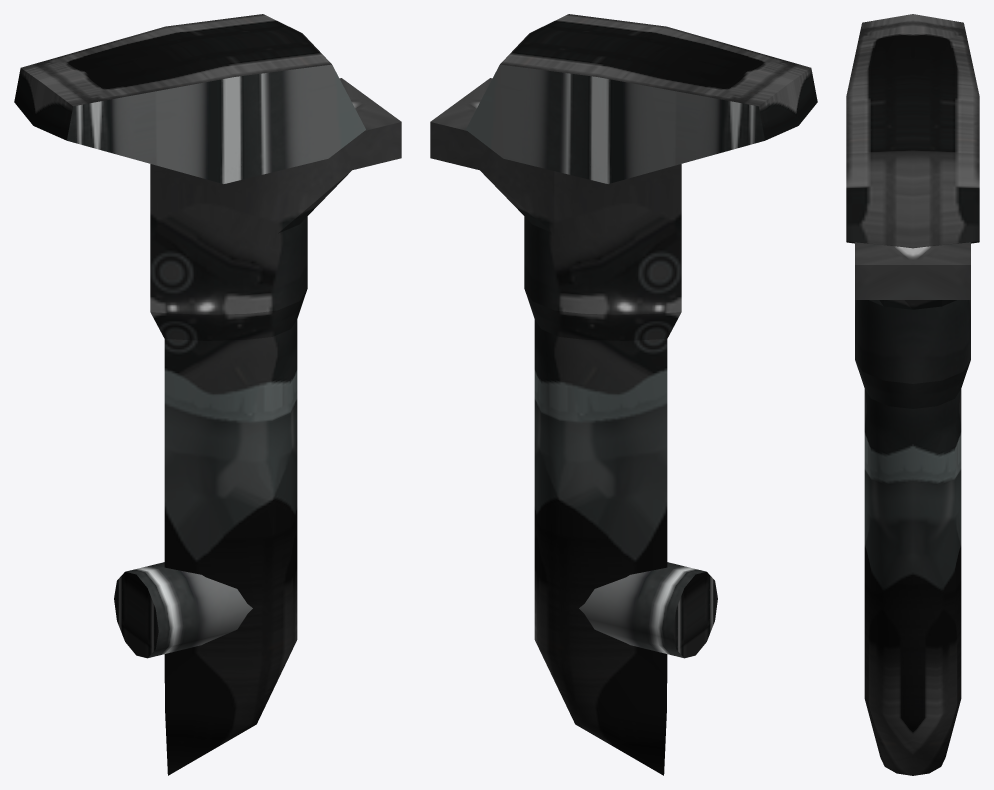
The model's file is engine.glb.
3 renders of one model, left to right at view 1: azimuth 30°, elevation 25°; view 2: azimuth 150°, elevation 25°; view 3: azimuth 270°, elevation 25°, orthographic. The views are drawn at different scales.
Visible parts, largest first — view 1: mesh0; view 2: mesh0; view 3: mesh0.
Boxes of the visible parts, <box> form: mesh0: <box>14,14,401,775</box>; mesh0: <box>430,14,817,775</box>; mesh0: <box>846,14,979,775</box>.
Bounding box in the file's own units: 0.443 × 0.9065 × 0.1566.
1 material, 1 textured.
